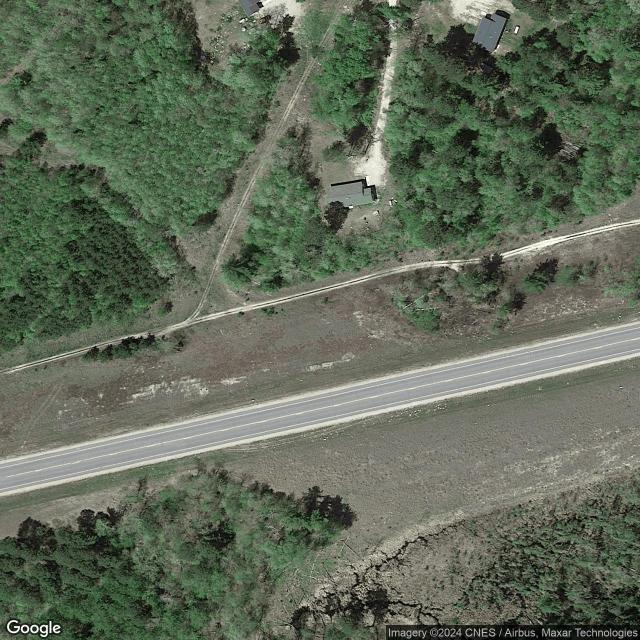Propane: (512, 24, 521, 36), (237, 17, 247, 25), (388, 199, 393, 207)
